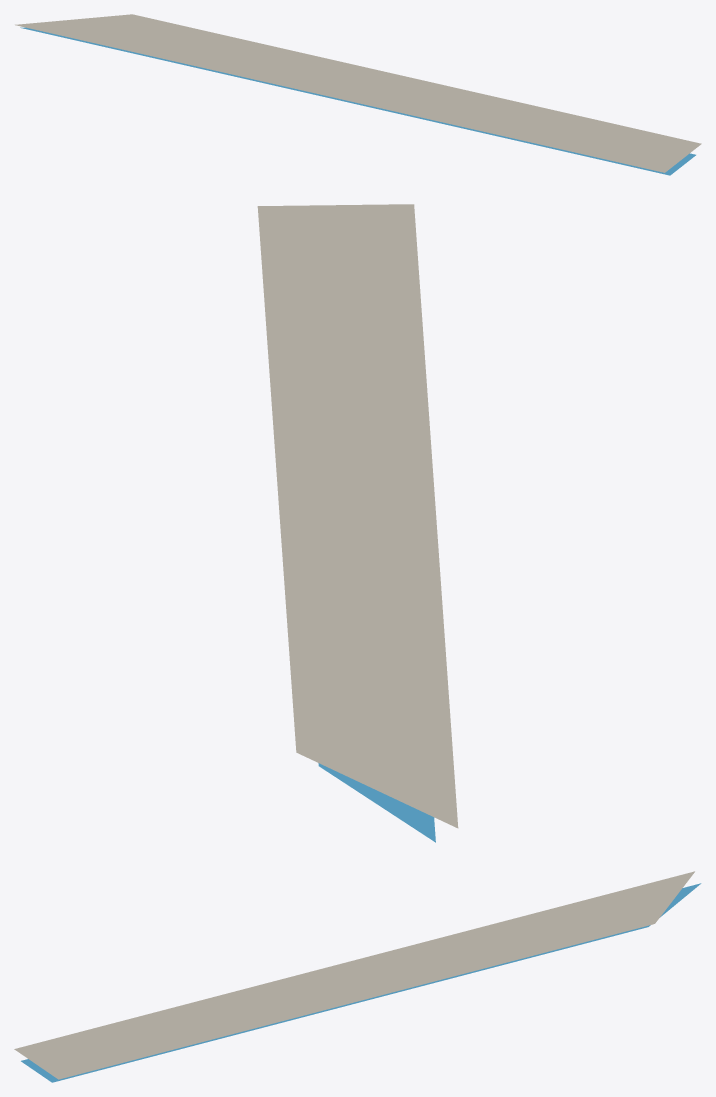
The picture shows the model from 3 angles, top to bottom: view 1: azimuth 30°, elevation 25°; view 2: azimuth 150°, elevation 25°; view 3: azimuth 270°, elevation 25°; orthographic projection. The views are drawn at different scales.
Visible parts, largest first — view 1: estructura_terreno, estructura_agua; view 2: estructura_terreno, estructura_agua; view 3: estructura_terreno, estructura_agua.
Boxes of the visible parts, <box> form: estructura_terreno: <box>15,14,701,172</box>; estructura_agua: <box>20,27,695,175</box>; estructura_terreno: <box>257,204,458,828</box>; estructura_agua: <box>318,763,435,842</box>; estructura_terreno: <box>14,871,694,1079</box>; estructura_agua: <box>21,883,701,1082</box>.
Bounding box in the file's own units: 24.42 × 0.41 × 34.06.
